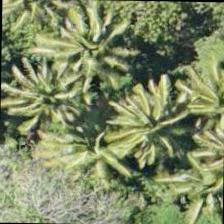Kelapa_Sawit: (42, 104, 134, 196), (114, 69, 206, 161), (80, 0, 172, 88), (0, 50, 80, 142), (156, 38, 223, 130)
